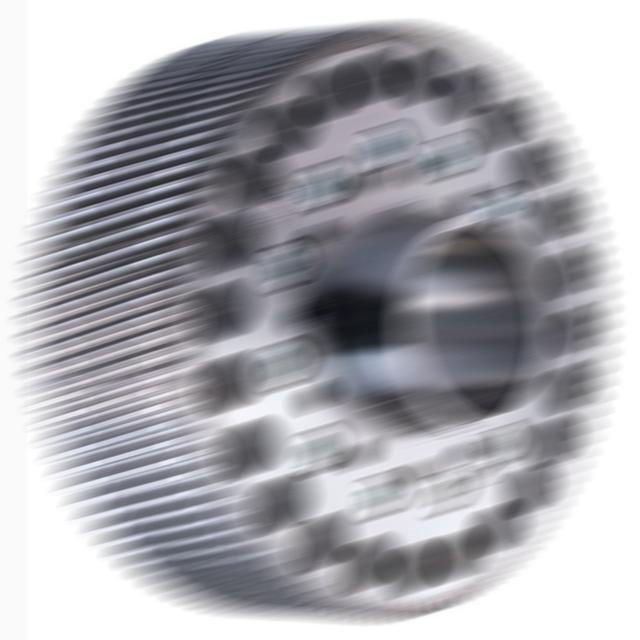Gear: (92, 24, 611, 619), (22, 33, 296, 614)
